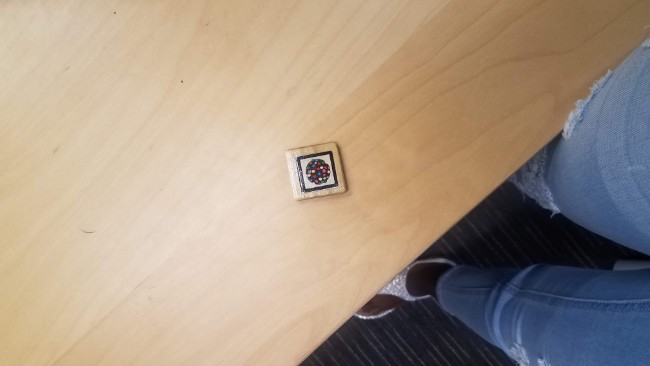cookie: (291, 149, 341, 193)
